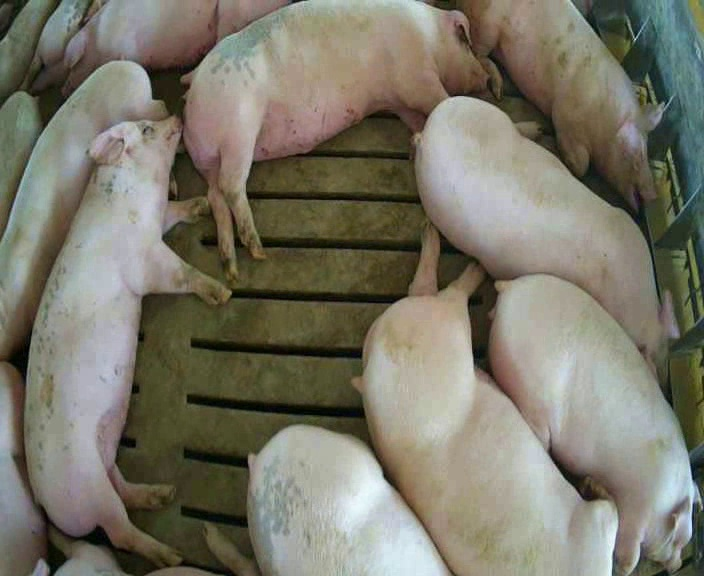pig: (25, 116, 229, 566), (181, 2, 489, 279), (412, 97, 679, 382), (489, 274, 702, 571), (458, 2, 662, 208), (247, 425, 448, 574), (63, 2, 285, 93), (20, 1, 102, 92), (0, 91, 41, 236), (0, 1, 56, 104)
